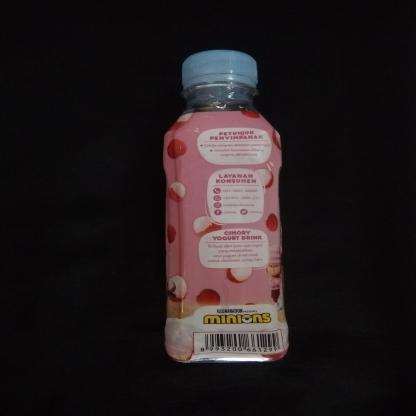bottle: (156, 44, 292, 366)
